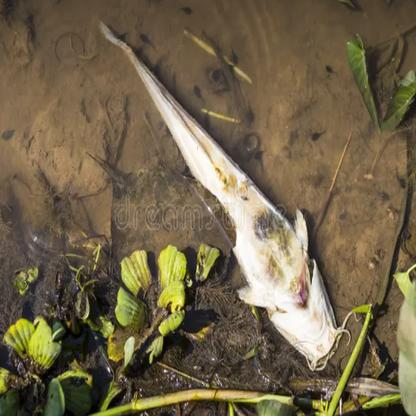deceased fish: (107, 28, 353, 372)
